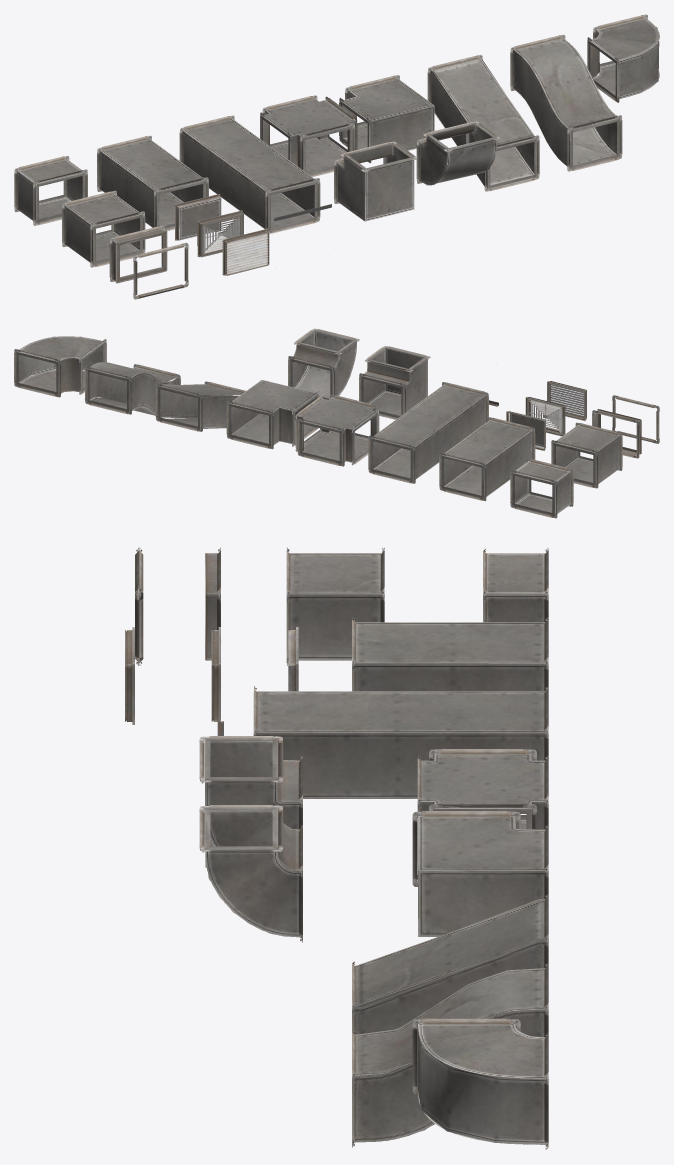
The model's file is isl_duct.glb.
3 renders of one model, top to bottom at view 1: azimuth 30°, elevation 25°; view 2: azimuth 150°, elevation 25°; view 3: azimuth 270°, elevation 25°, orthographic. The views are drawn at different scales.
Parts seen in each view (by area): view 1: modular_airduct_rectangular_01_single_01; view 2: modular_airduct_rectangular_01_single_01; view 3: modular_airduct_rectangular_01_single_01.
Part boxes in pixels (x1,y1,x2,y2): modular_airduct_rectangular_01_single_01: [14, 14, 659, 299]; modular_airduct_rectangular_01_single_01: [14, 328, 659, 518]; modular_airduct_rectangular_01_single_01: [125, 547, 548, 1149].
Size of the model in its own units: 7.67 by 1.26 by 2.59.
2 materials, 2 textured.
